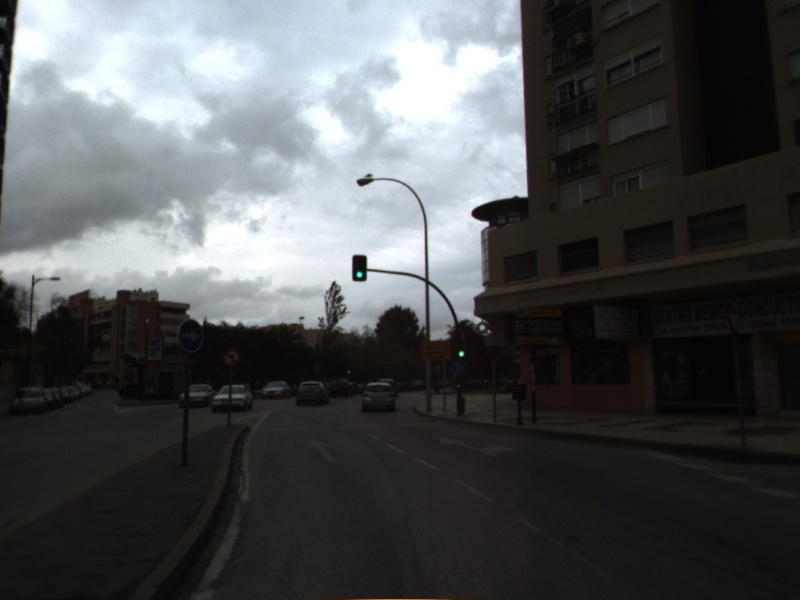STRAIGHT: (302, 437, 340, 464)
STRAIGHT_RIGHT: (435, 435, 521, 460)
